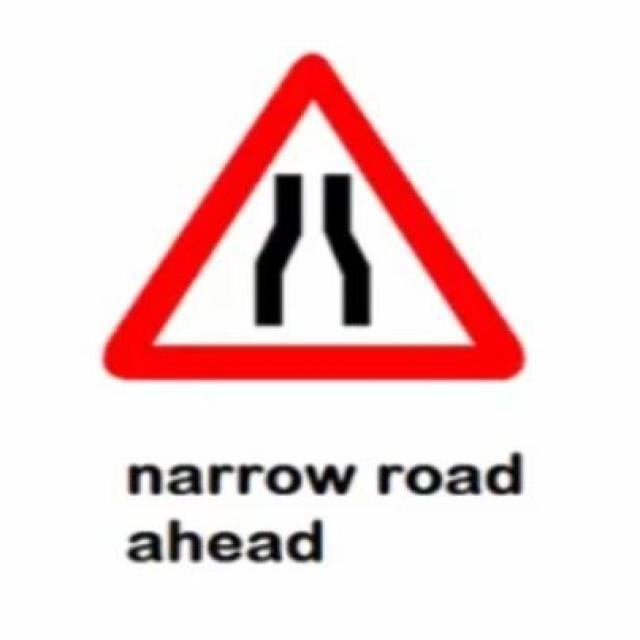narrow road ahead: (98, 48, 527, 379)
